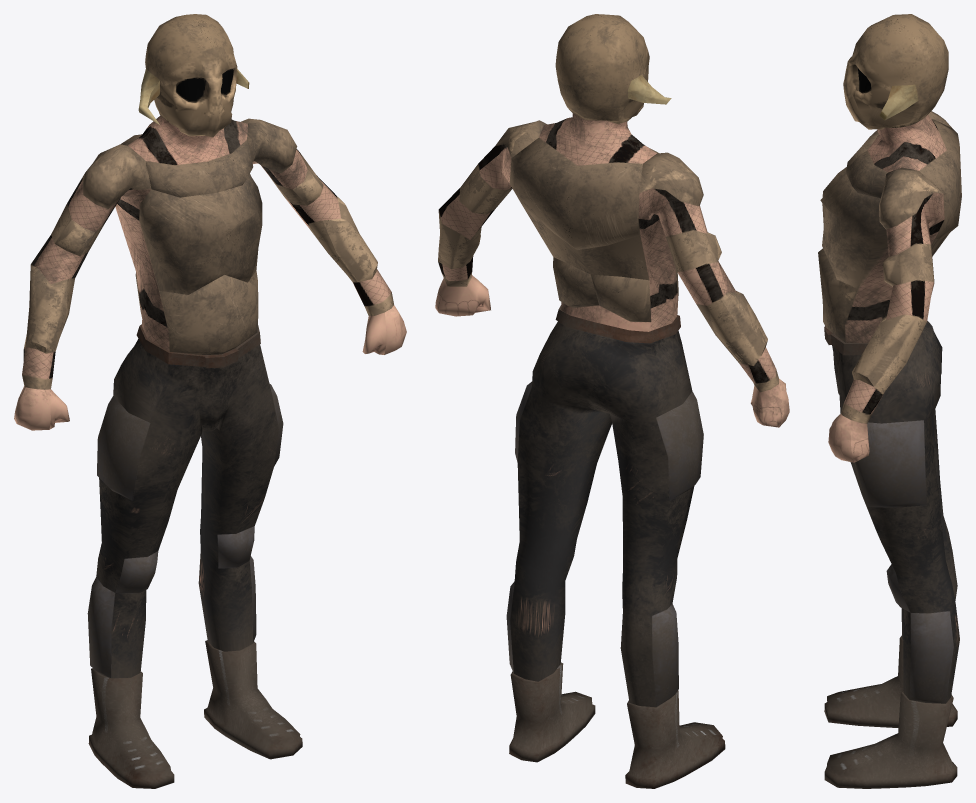
File: Anim_idle_npc1.0028.obj
3 renders of one model, left to right at view 1: azimuth 30°, elevation 25°; view 2: azimuth 150°, elevation 25°; view 3: azimuth 270°, elevation 25°, orthographic.
Visible parts, largest first — view 1: NPC2; view 2: NPC2; view 3: NPC2.
Part boxes in pixels (left/top/right/bottom): NPC2: left=14, top=14, right=406, bottom=788; NPC2: left=435, top=14, right=789, bottom=788; NPC2: left=818, top=14, right=961, bottom=788.
Bounding box in the file's own units: 5.09 × 9.67 × 1.72.
